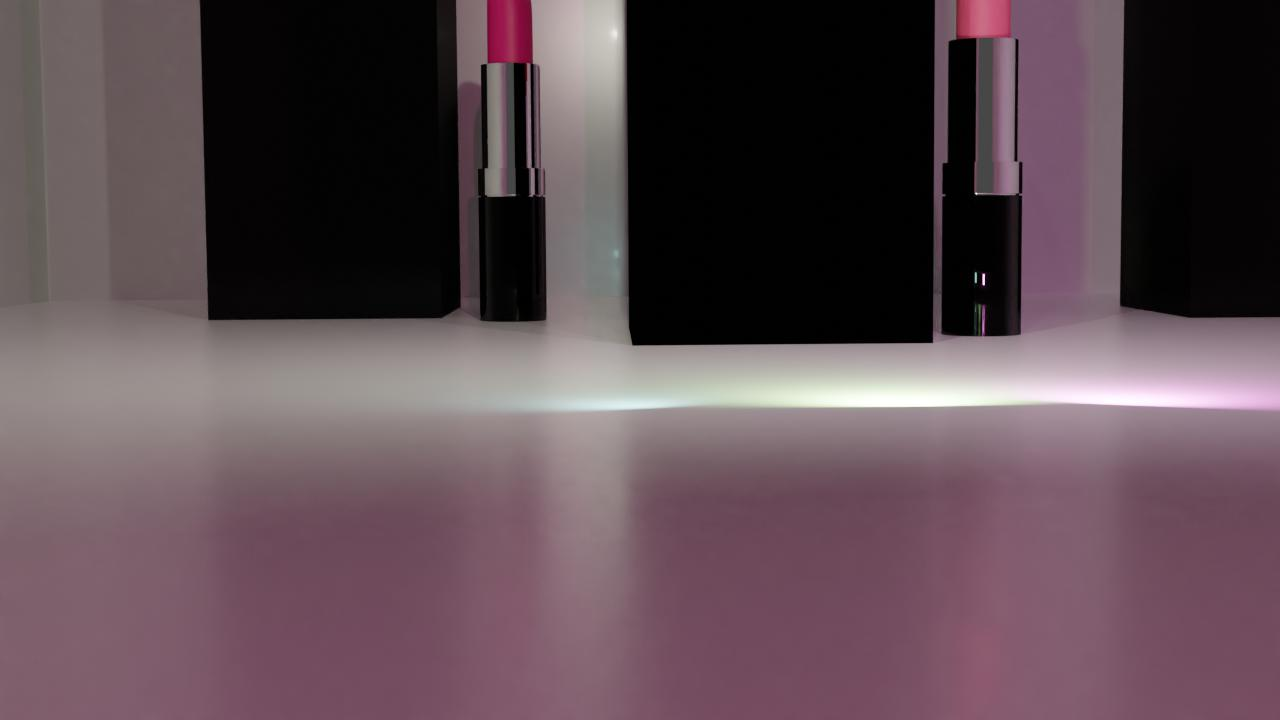CLASSIFIER_NAME: (939, 0, 1024, 342), (477, 0, 548, 321)
